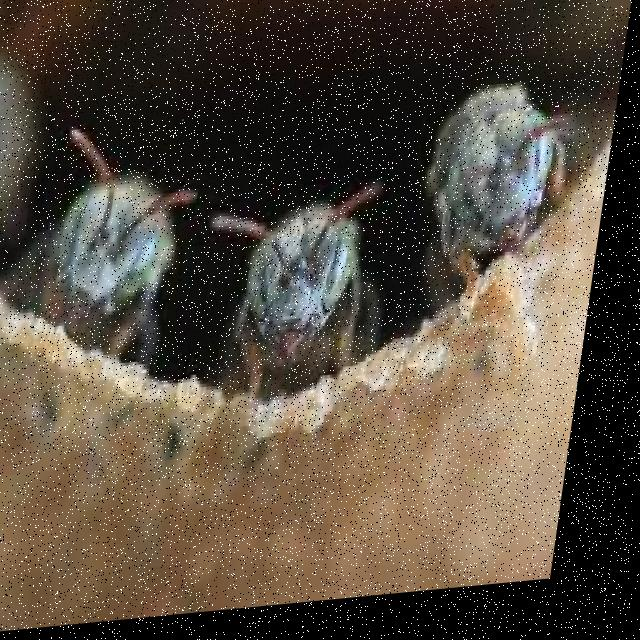Meliponula: (21, 119, 199, 383), (426, 59, 608, 315), (212, 170, 412, 381)
